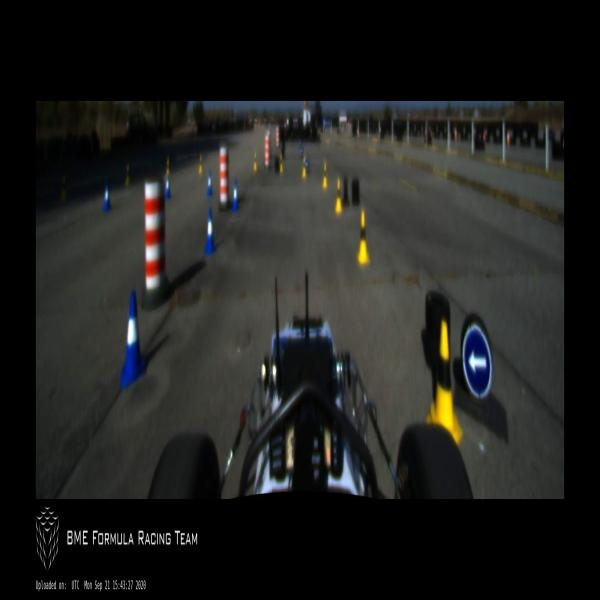blue_cone: (120, 290, 146, 388), (203, 206, 218, 256), (103, 182, 112, 213), (232, 180, 240, 212), (165, 173, 171, 199), (207, 172, 213, 196)
yellow_cone: (426, 318, 464, 449), (357, 210, 371, 266), (334, 178, 343, 214), (322, 162, 328, 188), (61, 173, 67, 199), (125, 164, 131, 188), (252, 153, 258, 172), (279, 153, 284, 173), (198, 154, 203, 174), (166, 158, 170, 180), (302, 158, 306, 178)
